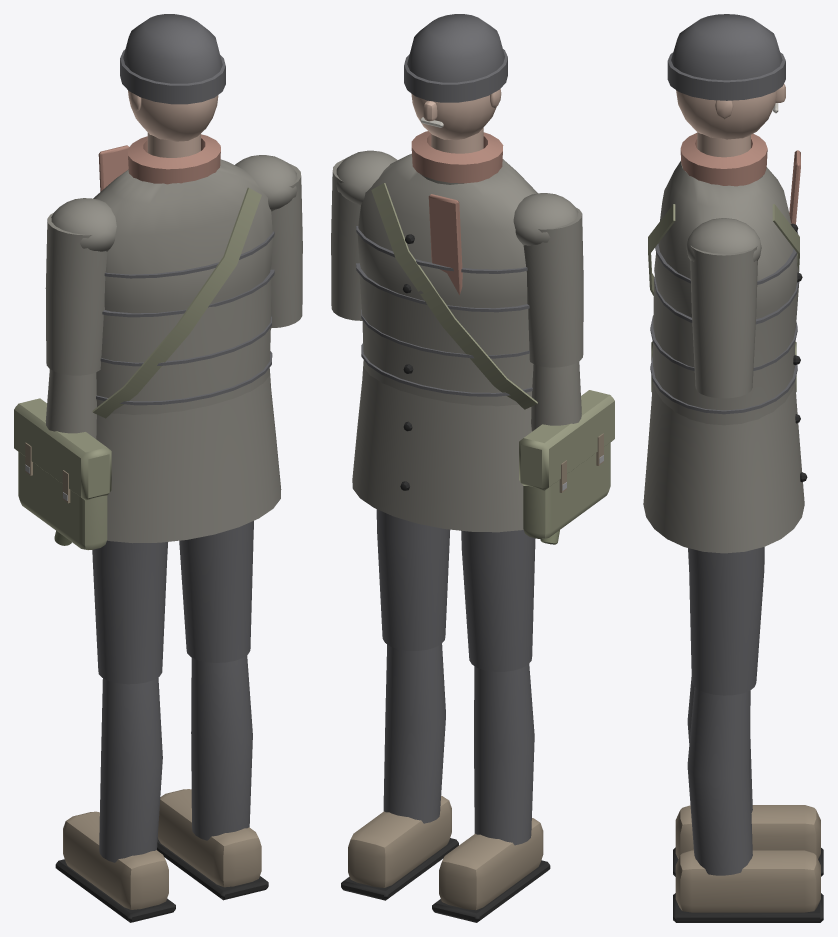
File: lev.glb
The picture shows the model from 3 angles, left to right: view 1: azimuth 30°, elevation 25°; view 2: azimuth 150°, elevation 25°; view 3: azimuth 270°, elevation 25°; orthographic projection. The views are drawn at different scales.
Parts seen in each view (by area): view 1: chest, pelvis, spine, head, shin_l, shin_r, upper_arm_l, bag, thigh_l, thigh_r, foot_l, foot_r (+2 smaller); view 2: chest, pelvis, spine, head, shin_l, shin_r, upper_arm_l, bag, thigh_l, thigh_r, foot_l, foot_r (+2 smaller); view 3: pelvis, chest, head, upper_arm_r, shin_r, thigh_r, spine, foot_r, foot_l.
Part boxes in pixels (x1,y1,x2,y2): chest: (92,134,274,418); pelvis: (96,369,281,543); spine: (96,278,272,414); head: (120,14,225,157); shin_l: (99,677,162,862); shin_r: (191,655,252,840); upper_arm_l: (45,198,116,375); bag: (14,398,111,550); thigh_l: (92,540,167,684); thigh_r: (179,521,253,662); foot_l: (55,811,175,922); foot_r: (157,789,268,900); chest: (356,131,537,409); pelvis: (352,361,531,532); spine: (359,275,533,406); head: (404,14,507,153); shin_l: (474,664,534,845); shin_r: (383,644,445,823); upper_arm_l: (513,193,583,367); bag: (519,390,614,538); thigh_l: (461,530,535,671); thigh_r: (376,509,450,650); foot_l: (432,818,550,922); foot_r: (341,795,458,900); pelvis: (643,381,807,553); chest: (648,133,802,324); head: (667,14,785,157); upper_arm_r: (686,218,761,398); shin_r: (687,687,752,875); thigh_r: (688,547,764,695); spine: (650,280,800,425); foot_r: (673,850,823,922); foot_l: (673,805,823,876).
Size of what is drawn, in the model's own units: 0.5439 by 1.78 by 0.335.
